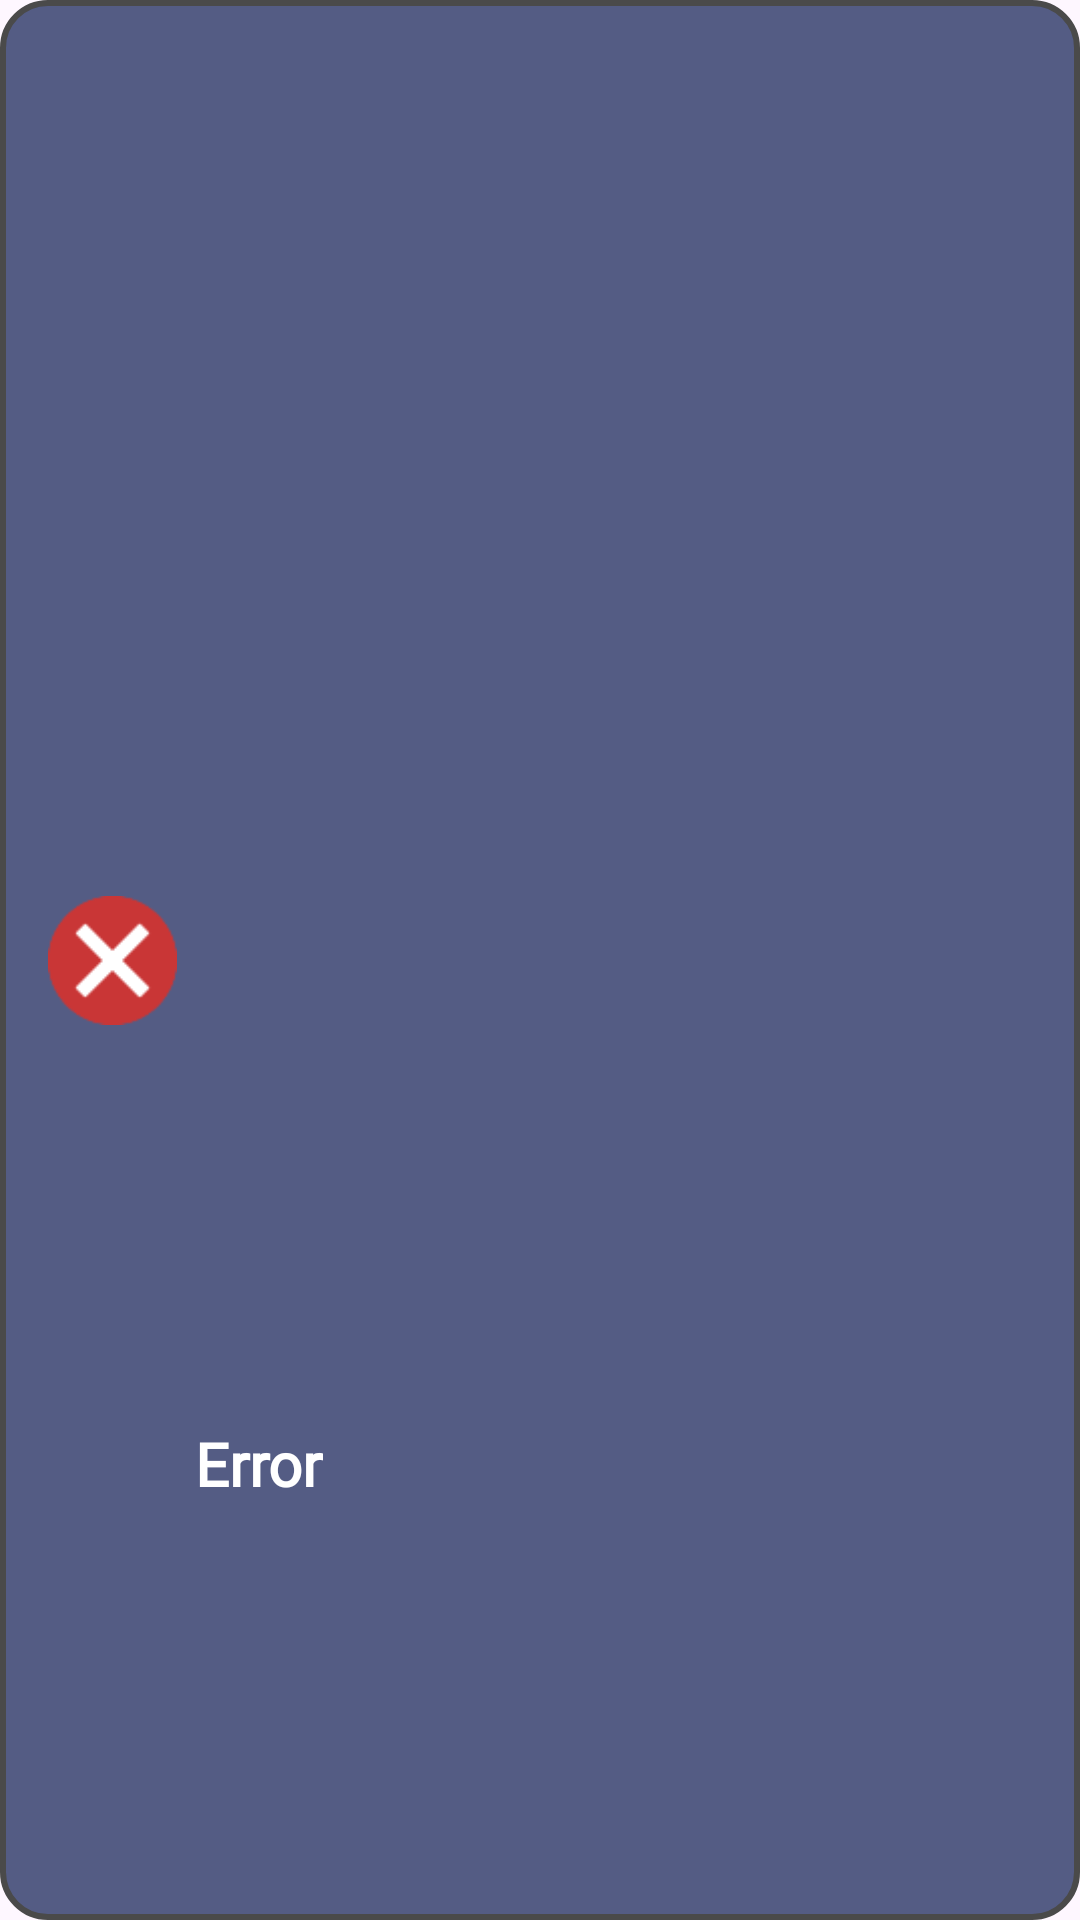

Icon click points for this 1080x1920 phone screenshot, format [x,y]:
failure: [112,960]
